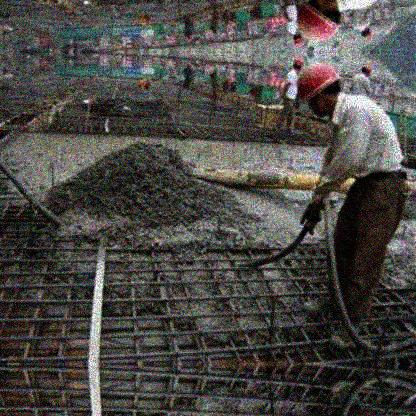helmet: (296, 62, 342, 118), (298, 1, 343, 43), (360, 63, 373, 77), (292, 36, 306, 48), (361, 29, 374, 41), (188, 63, 192, 69), (188, 37, 192, 42)
